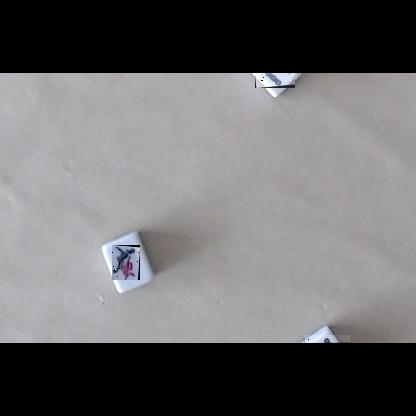1s: (112, 245, 140, 280)
3s: (255, 73, 295, 88)
8s: (304, 335, 350, 343)
